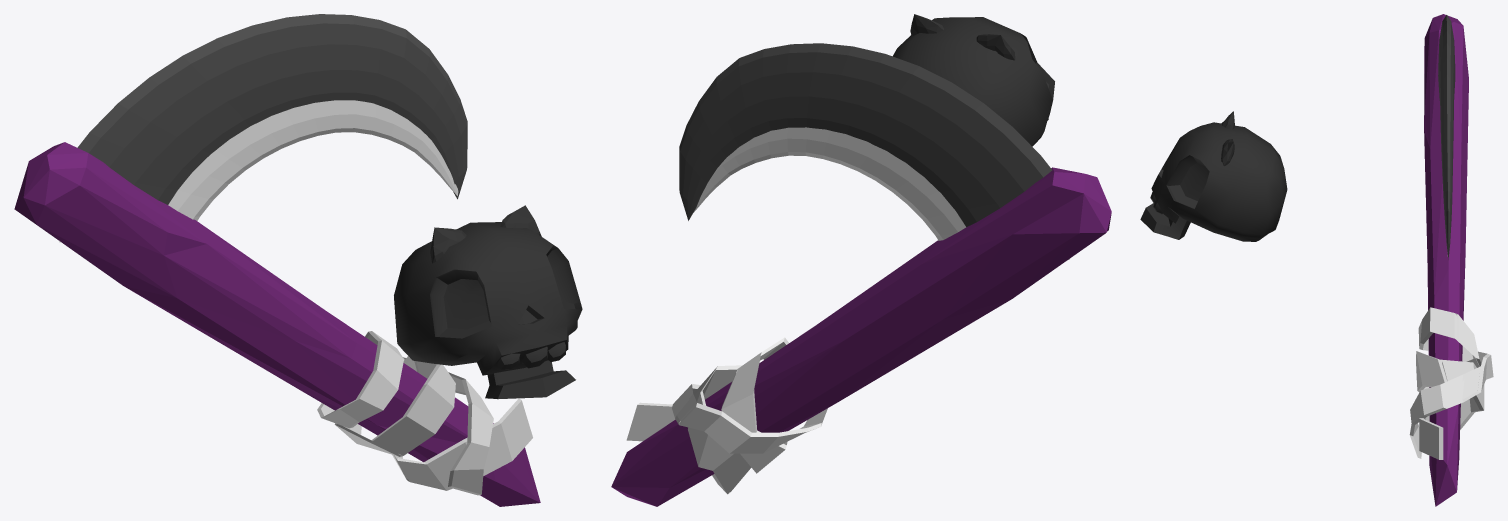
File: death_item.fbx
3 views of the same model, side by side, from view 1: azimuth 30°, elevation 25°; view 2: azimuth 150°, elevation 25°; view 3: azimuth 270°, elevation 25° (orthographic). The views are drawn at different scales.
Visible parts, largest first — view 1: Cube, Torus, Skull_Cube.094, Cube.001, Torus.001, Cone; view 2: Cube, Torus, Cube.001, Skull_Cube.094, Torus.001, Cone; view 3: Skull_Cube.094, Cube, Cube.001, Torus, Cone.
Boxes of the visible parts, x1,y1,x2,y2 form: Cube: (14, 142, 540, 506); Torus: (77, 14, 467, 204); Skull_Cube.094: (394, 222, 582, 399); Cube.001: (317, 331, 532, 495); Torus.001: (59, 100, 458, 242); Cone: (430, 205, 541, 263); Cube: (611, 167, 1111, 506); Torus: (679, 43, 1052, 226); Cube.001: (626, 337, 827, 494); Skull_Cube.094: (892, 17, 1054, 146); Torus.001: (693, 127, 1069, 259); Cone: (910, 14, 1015, 60); Skull_Cube.094: (1140, 122, 1287, 241); Cube: (1424, 14, 1468, 506); Cube.001: (1409, 307, 1493, 459); Torus: (1438, 15, 1455, 259); Cone: (1221, 111, 1234, 165).
Size of the model in its own units: 96.16 by 96.04 by 80.94.
